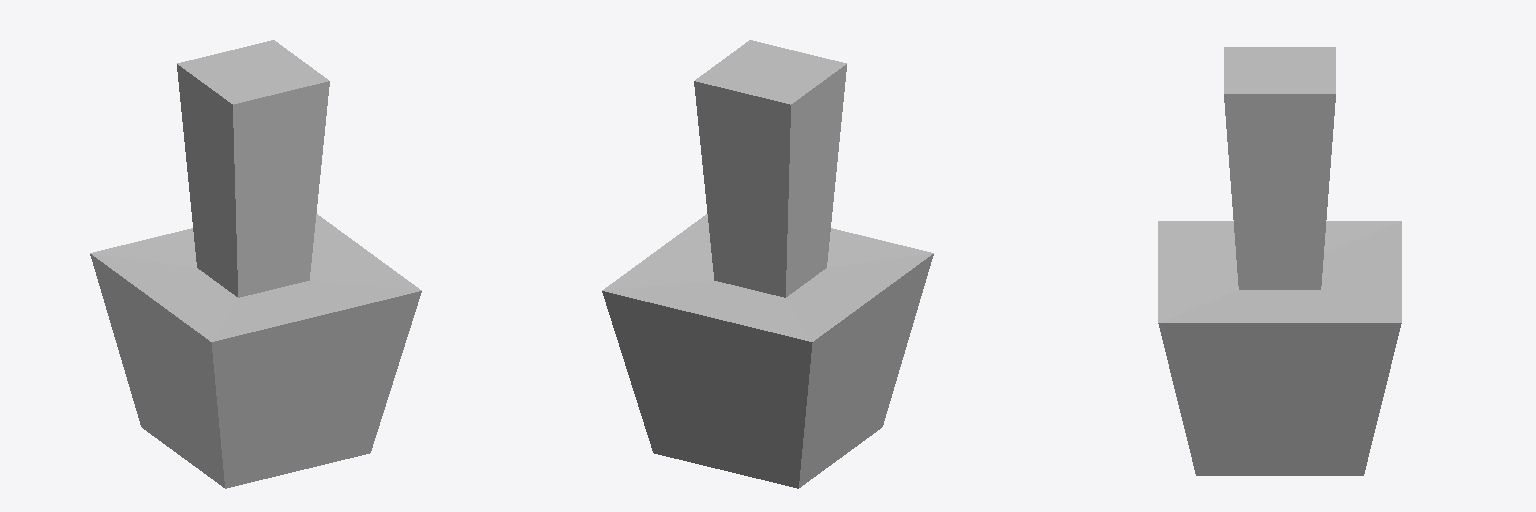
Rendered from flowerpot_collider.obj.
3 views of the same model, side by side, from view 1: azimuth 30°, elevation 25°; view 2: azimuth 150°, elevation 25°; view 3: azimuth 270°, elevation 25° (orthographic).
Parts seen in each view (by area): view 1: MeshCollider_Cube.003; view 2: MeshCollider_Cube.003; view 3: MeshCollider_Cube.003.
Part boxes in pixels (x1,y1,x2,y2): MeshCollider_Cube.003: (90,40,421,488); MeshCollider_Cube.003: (602,40,933,488); MeshCollider_Cube.003: (1158,47,1401,475).
Size of the model in its own units: 1.31 by 2.19 by 1.31.